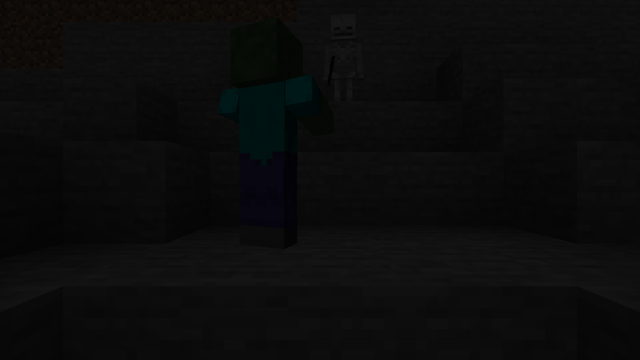squelettes: (328, 13, 358, 96)
zombies: (226, 24, 301, 251)
